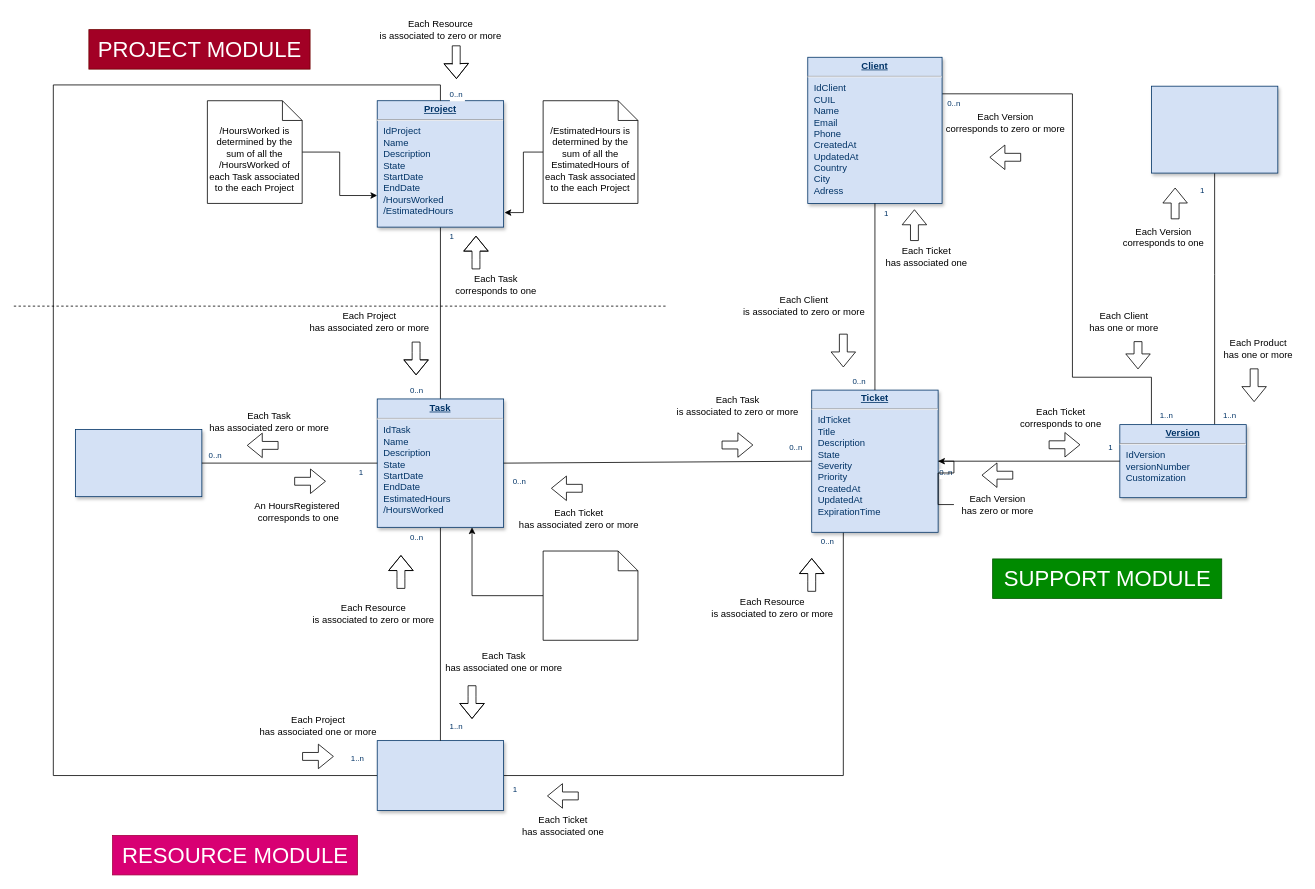
This 1315x889 diagram has some shape labels left out. The centre of each missing label's shape, as x and y in pixels:
/HoursWorked is determined by the sum of the HoursRegistered for that Task: the point at 590,595
HoursRegistered IdHoursRegistered AmountOfHours DateOfWork: the point at 139,464
Product IdProduct Name Description CreatedAt: the point at 1215,130
Resource IdResouce Name Lastname: the point at 440,776
